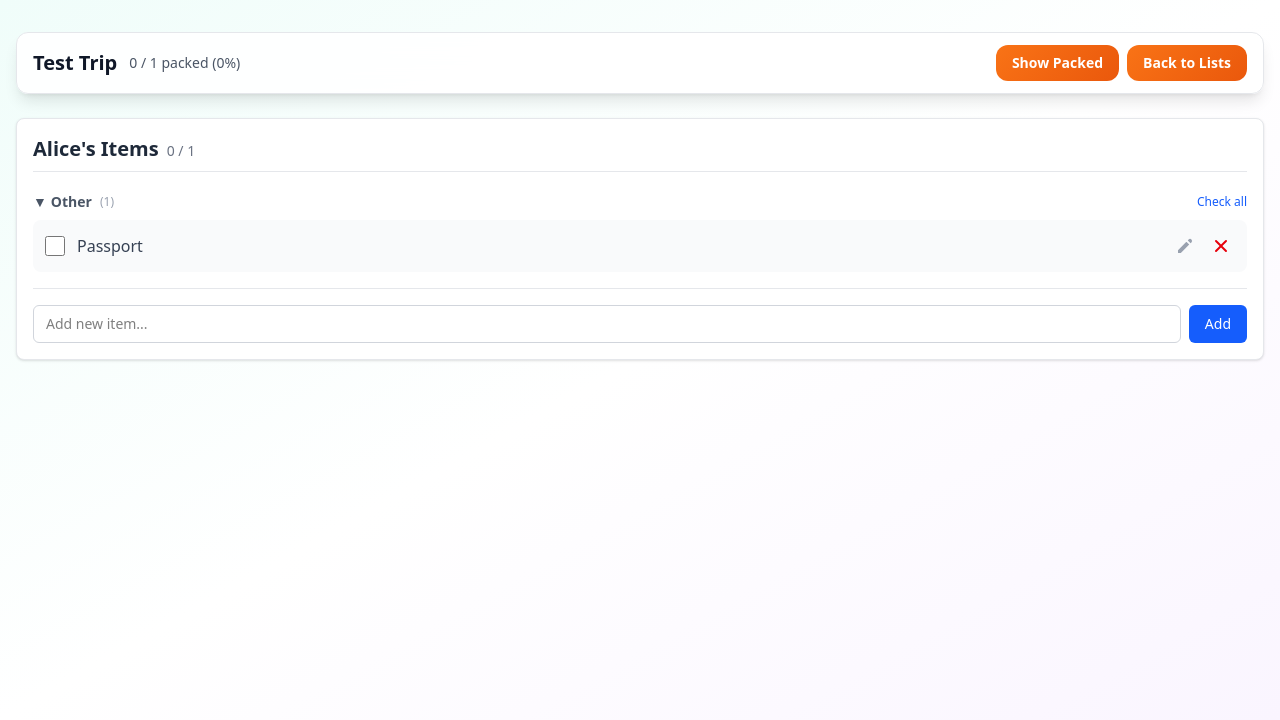
it: ViewPackingList item deletion confirmation › deletes item when Remove is clicked in confirmation dialog
Check: the text "Passport" is shown, box [77,234,143,258]
Click the button titled "Delete item". click: (1221,246)
box: [1207,232,1235,260]
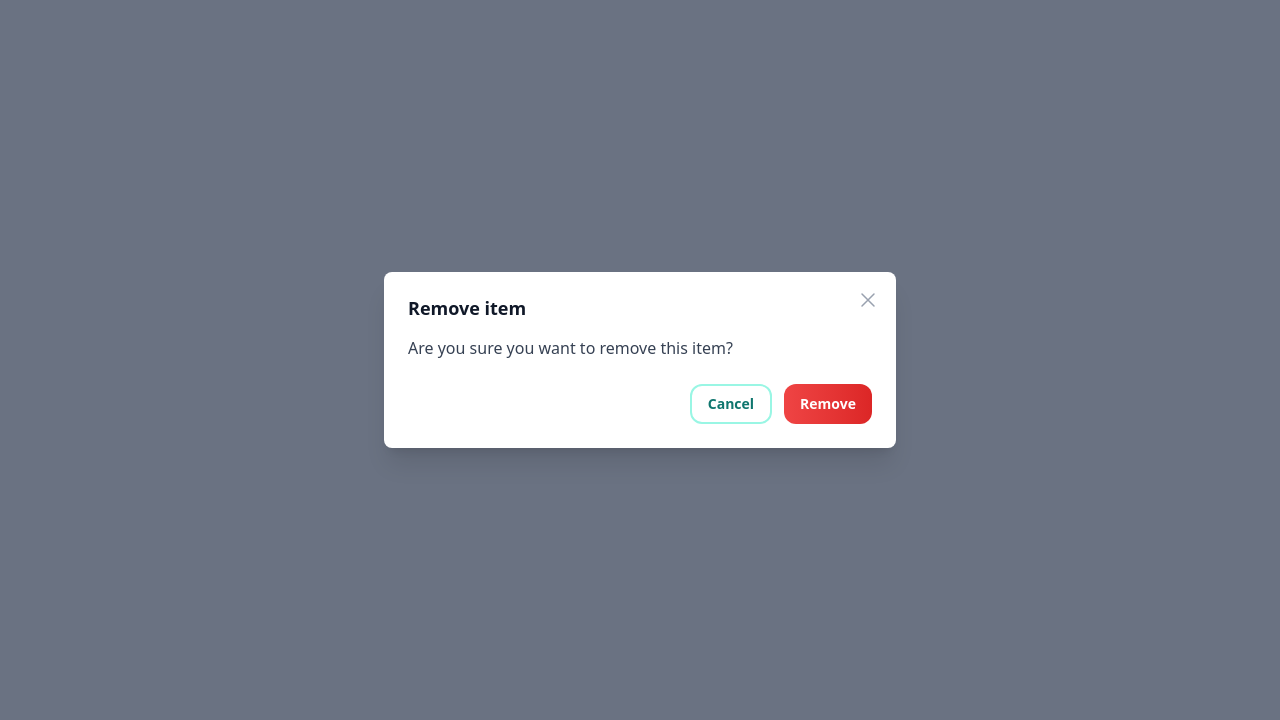
Click the button "Remove". click: (828,404)
box: [784,384,872,424]
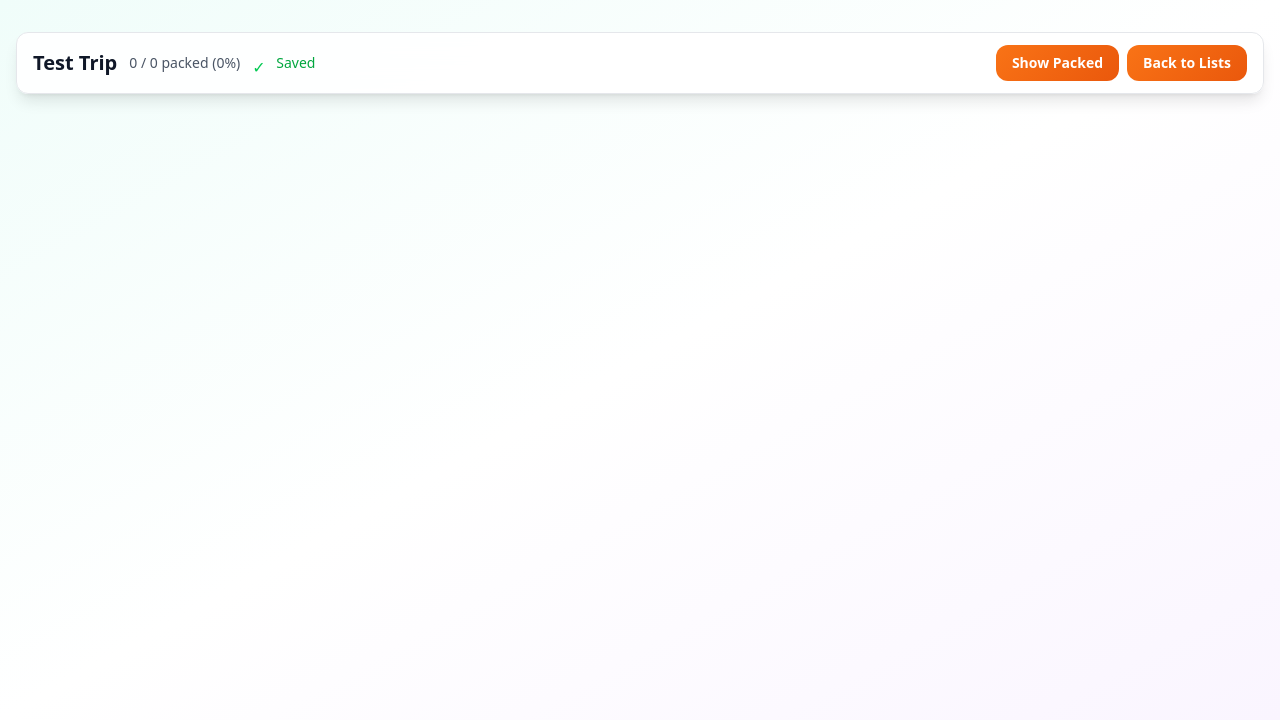
Check: the text "Passport" is gone
